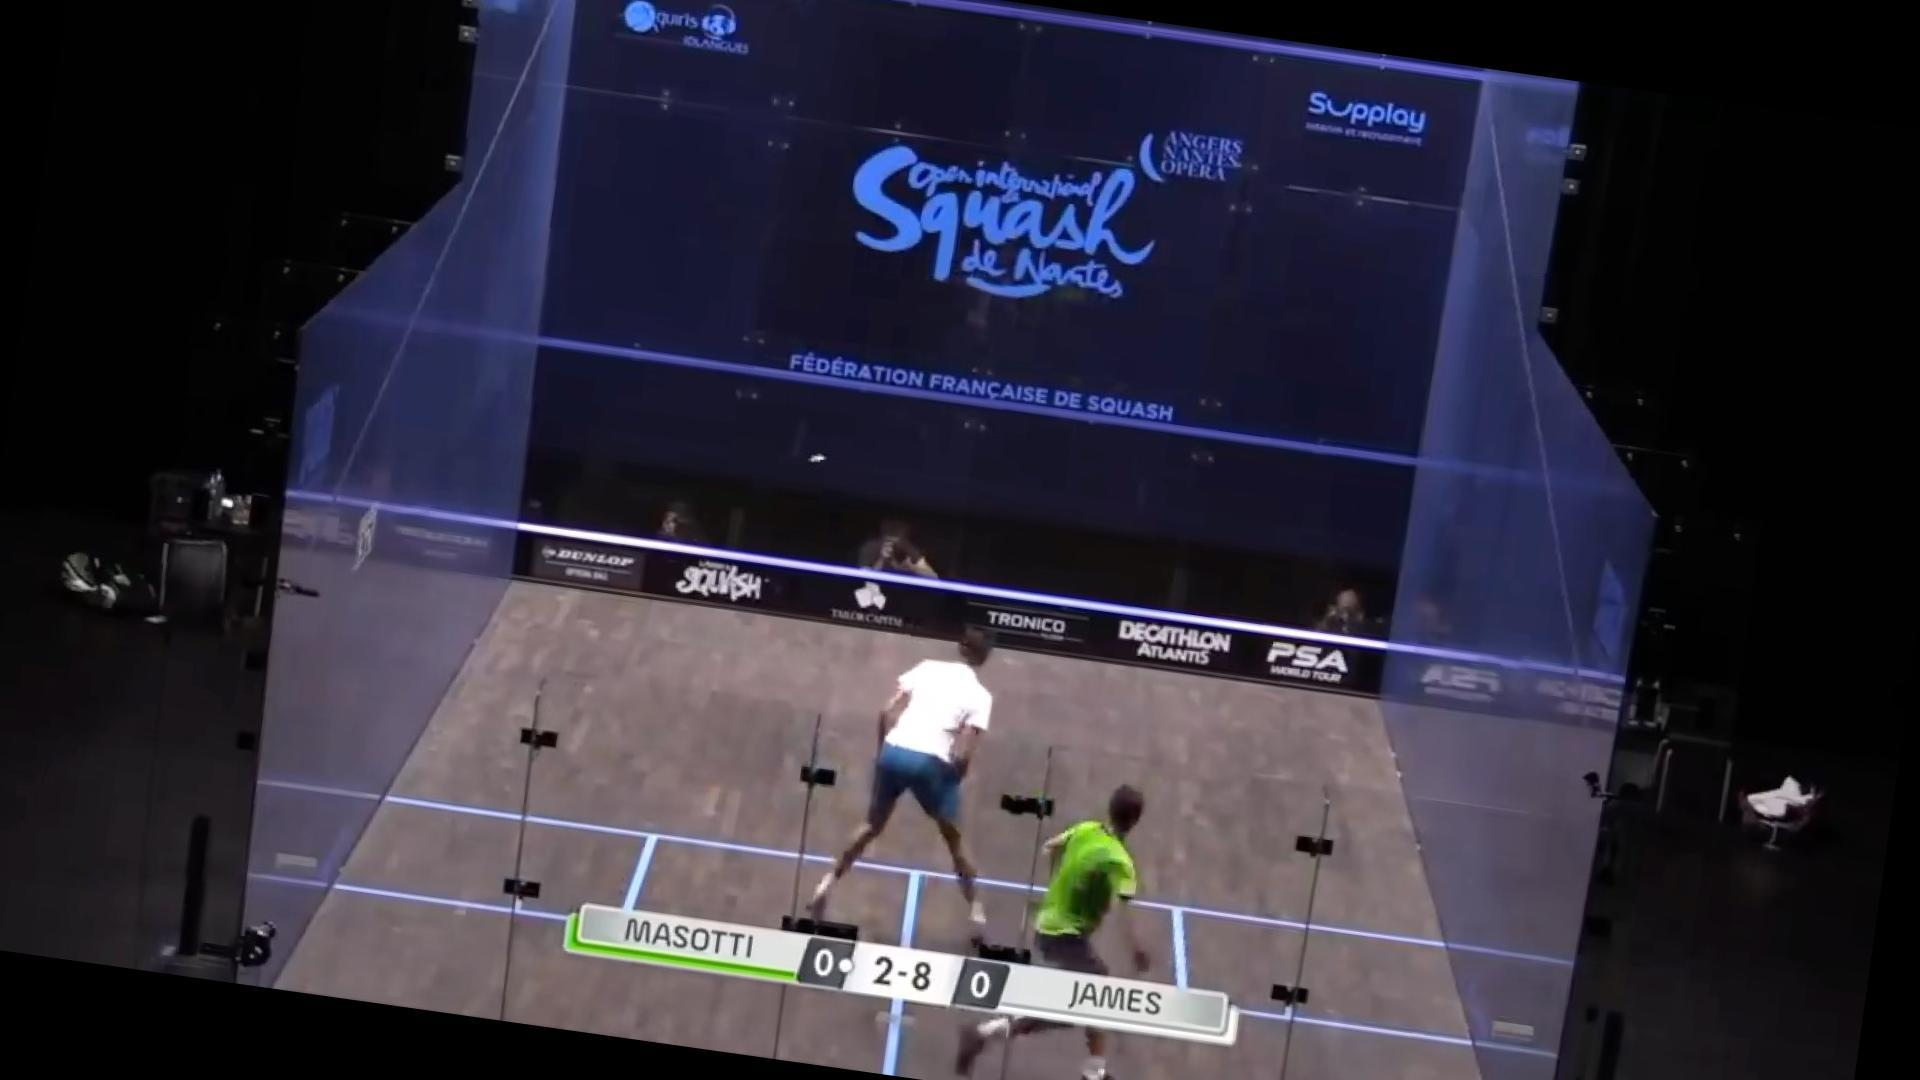Squash-Ball: (794, 439, 843, 488)
